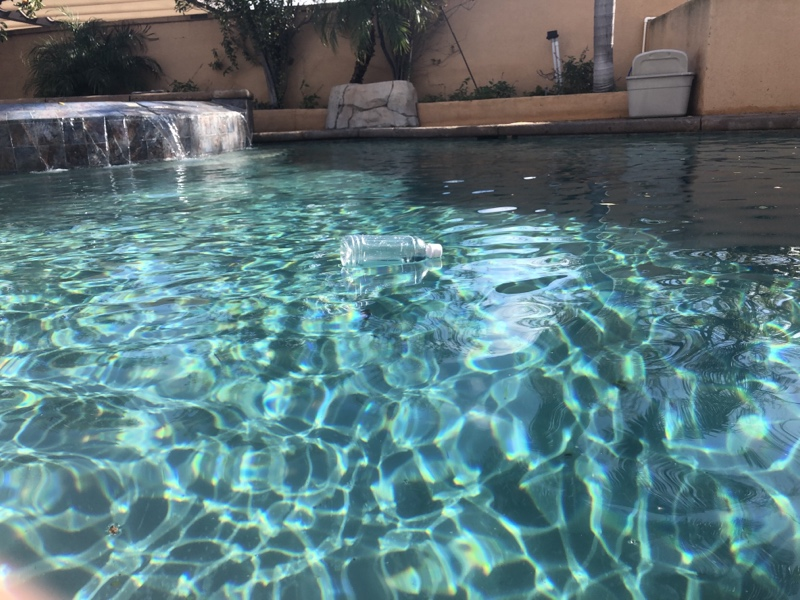Plastic Bottle: (335, 230, 449, 274)
